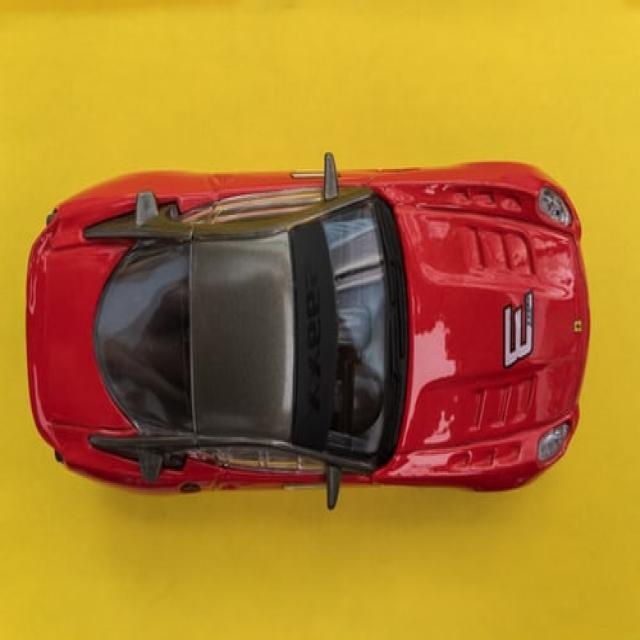Car: (26, 152, 592, 507)
